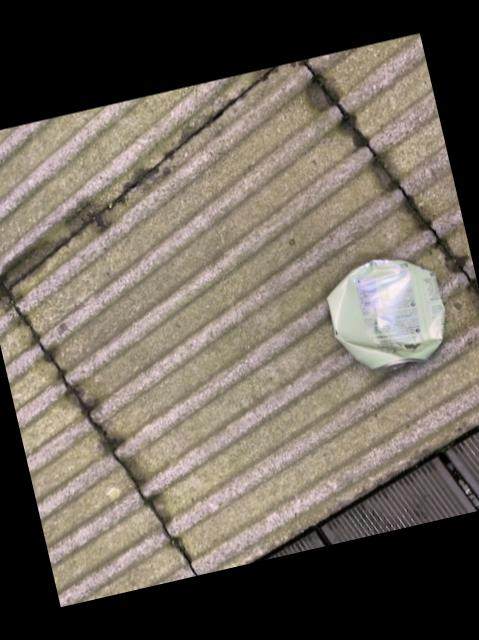metal: (324, 261, 441, 370)
